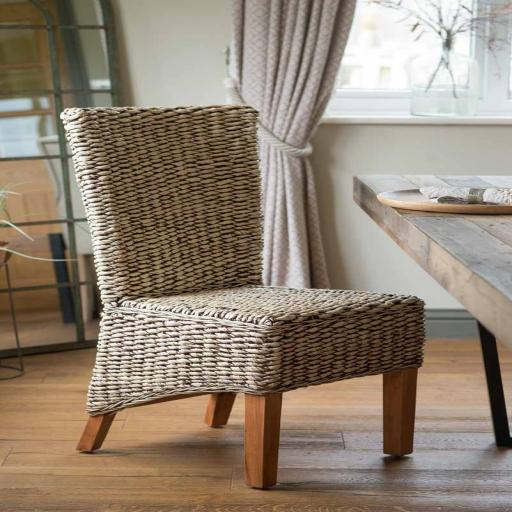chair: (60, 103, 426, 488)
desk: (353, 174, 512, 446)
